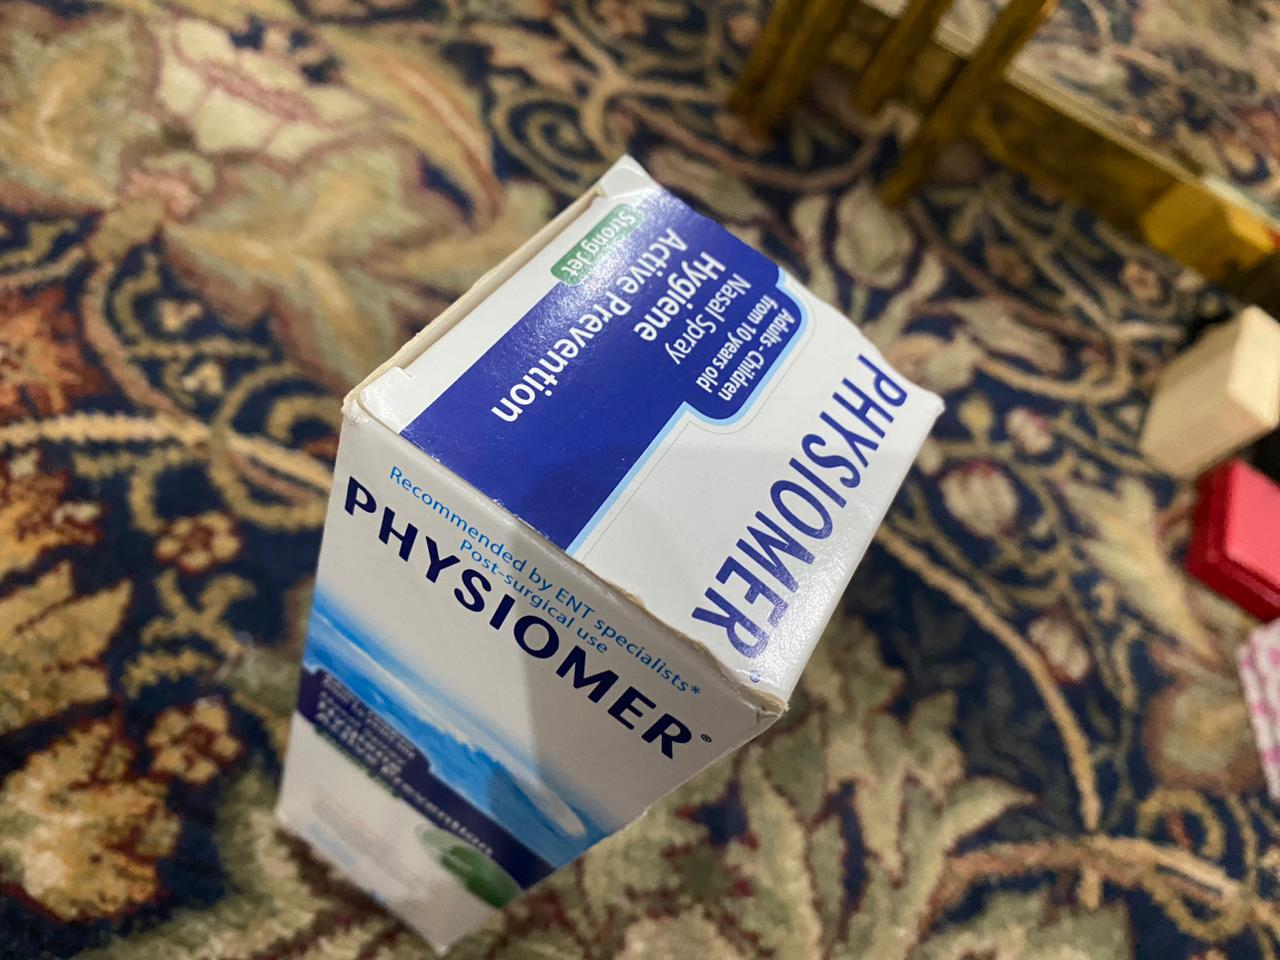Physiomer: (274, 155, 957, 960)
Pink Box: (1228, 621, 1280, 805)
Red Box: (1201, 458, 1280, 618)
Yellow Box: (1135, 306, 1280, 478)
